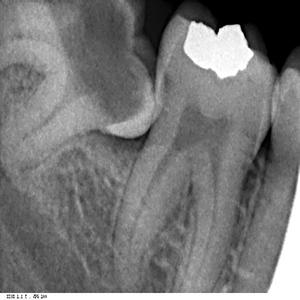tooth: (115, 12, 272, 286), (0, 0, 165, 169)
